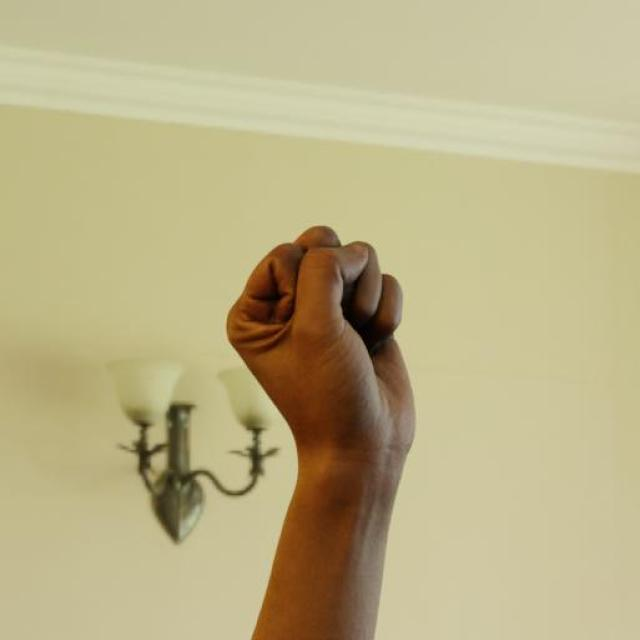S: (220, 220, 426, 472)
